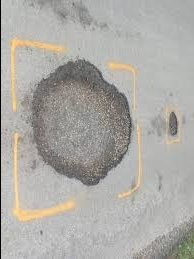pothole: (26, 59, 136, 190), (166, 111, 181, 140)
